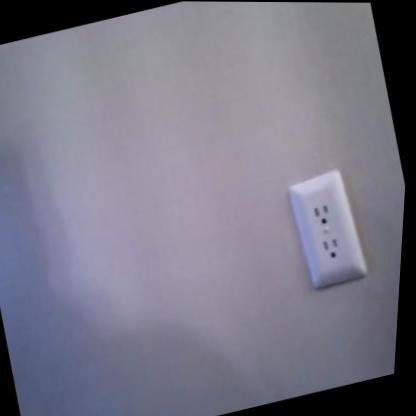OUTLET: (284, 166, 373, 288)
